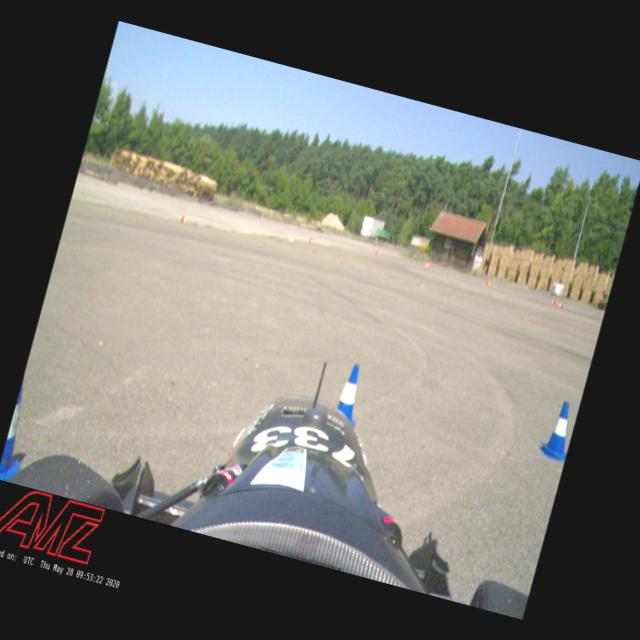blue_cone: (0, 376, 42, 483), (534, 396, 578, 464), (328, 358, 371, 427)
orange_cone: (179, 212, 189, 225), (423, 261, 431, 269), (486, 278, 492, 286), (374, 248, 380, 256), (308, 236, 314, 243)
